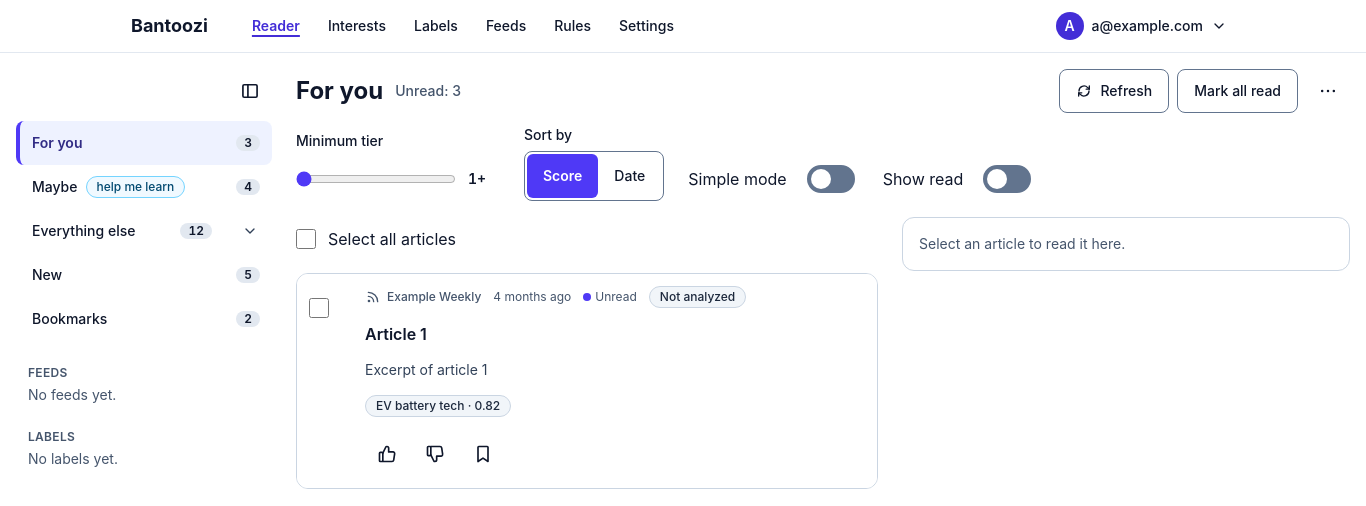
Test: Simple mode › hides the excerpts at once and saves the setting
This screenshot has width=1366, height=506.
Check: the text "Excerpt of article 1" is shown, box [365,361,488,378]
Click the switch named "Simple mode" next to "Simple mode" at (831, 179), box [803,157,859,201]
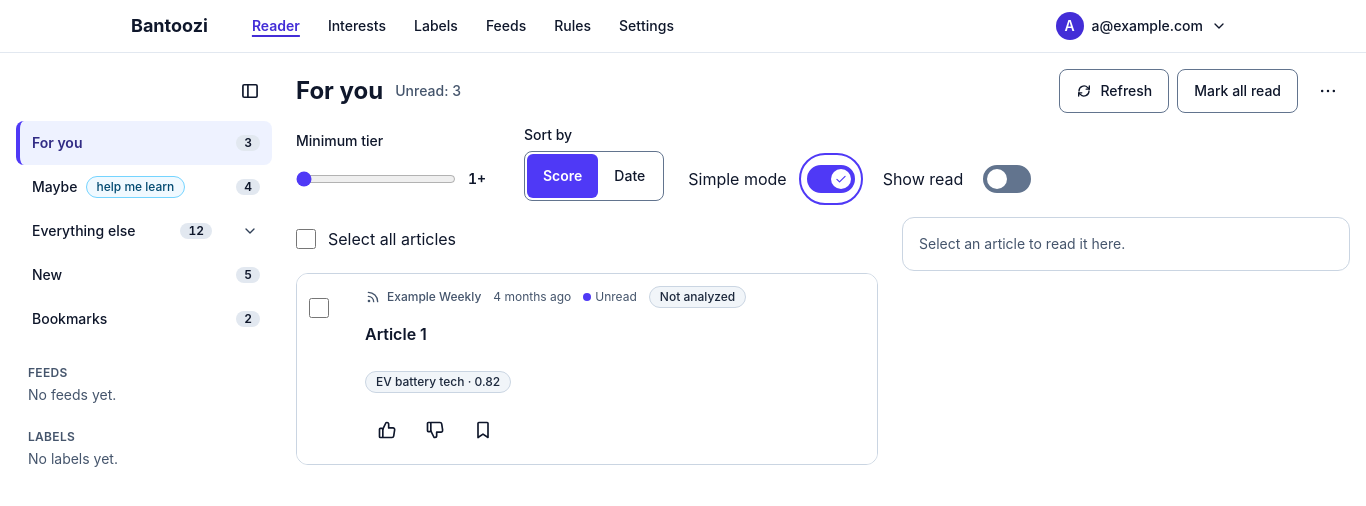
Check: the text "Excerpt of article 1" is gone
Click the switch named "Simple mode" next to "Simple mode" at (831, 179), box [803,157,859,201]
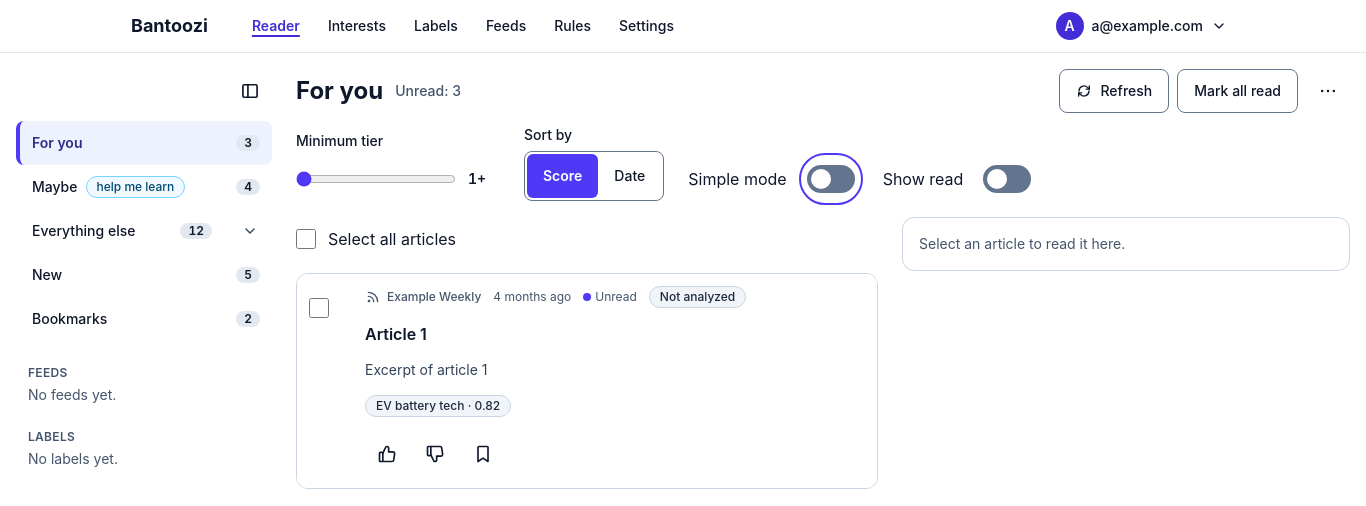
Check: the text "Excerpt of article 1" is shown, box [365,361,488,378]
